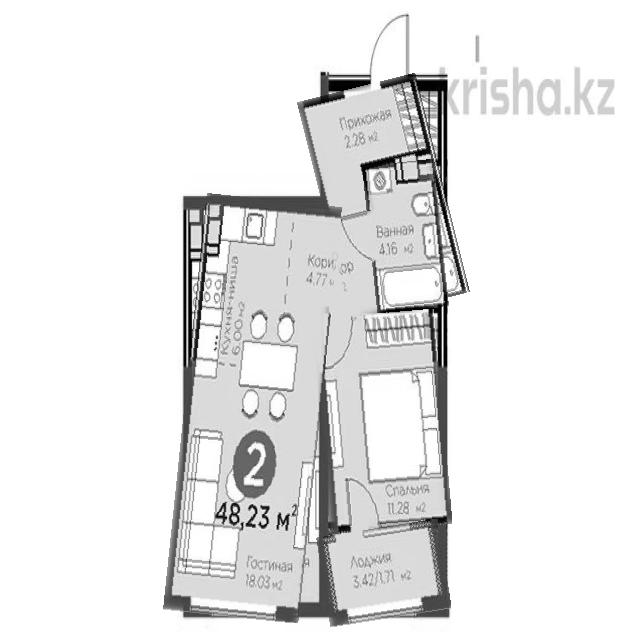balcony: (319, 523, 448, 622)
bathroom: (366, 161, 446, 312)
hallway: (297, 74, 433, 321)
living_room: (316, 312, 447, 532)
studio: (174, 196, 332, 621)
